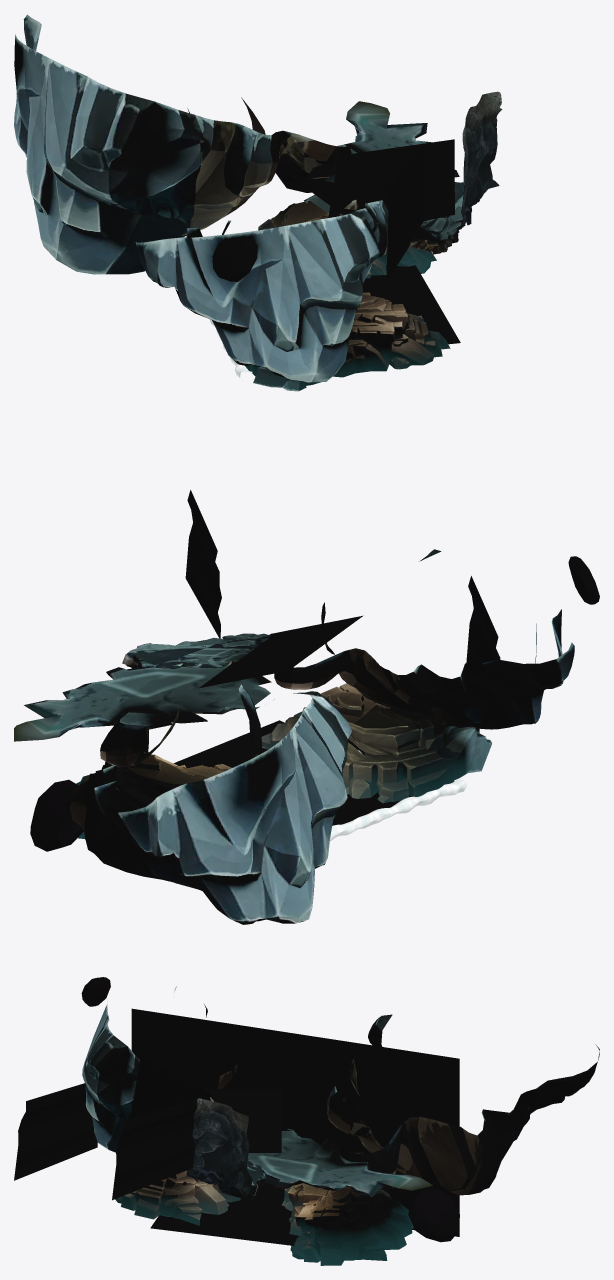
Rendered from scena_02.glb.
3 renders of one model, top to bottom at view 1: azimuth 30°, elevation 25°; view 2: azimuth 150°, elevation 25°; view 3: azimuth 270°, elevation 25°, orthographic. The views are drawn at different scales.
Parts seen in each view (by area): view 1: grotta_roccia_alta_dx, grotta_roccia_alta_sx, grotta_roccia_bassa_sx, piano_nero.001, grotta_roccia_quinta_top_dx, roccia buco camera, piano_nero.002, acqua_fiume, grotta_roccia_bassa_dx, grotta_roccia_quinta_top, piano_nero; view 2: grotta_roccia_alta_dx, grotta_roccia_alta_sx, grotta_roccia_bassa_sx, grotta_roccia_quinta_top_dx, piano_nero, grotta_roccia_quinta_top, grotta_roccia_bassa_dx, piano_nero.003, acqua_fiume, sbuffo_acqua_bianco, piano_nero.004; view 3: acqua_cascata, grotta_roccia_alta_dx, grotta_roccia_bassa_dx, grotta_roccia_alta_sx, piano_nero.003, grotta_roccia_quinta_top_dx, piano_nero.004, acqua_fiume, roccia buco camera, grotta_roccia_bassa_sx, piano_nero, piano_nero.002 (+1 smaller).
Boxes of the visible parts, bbox=[...] form: grotta_roccia_alta_dx: bbox=[14, 14, 351, 274]; grotta_roccia_alta_sx: bbox=[135, 199, 388, 382]; grotta_roccia_bassa_sx: bbox=[245, 292, 450, 391]; piano_nero.001: bbox=[328, 139, 454, 220]; grotta_roccia_quinta_top_dx: bbox=[304, 101, 459, 217]; roccia buco camera: bbox=[461, 91, 502, 224]; piano_nero.002: bbox=[386, 144, 424, 281]; acqua_fiume: bbox=[363, 265, 460, 344]; grotta_roccia_bassa_dx: bbox=[258, 200, 436, 278]; grotta_roccia_quinta_top: bbox=[409, 182, 479, 254]; piano_nero: bbox=[286, 173, 448, 244]; grotta_roccia_alta_dx: bbox=[30, 684, 352, 924]; grotta_roccia_alta_sx: bbox=[274, 549, 599, 729]; grotta_roccia_bassa_sx: bbox=[261, 683, 491, 803]; grotta_roccia_quinta_top_dx: bbox=[14, 665, 274, 741]; piano_nero: bbox=[199, 615, 363, 688]; grotta_roccia_quinta_top: bbox=[122, 633, 271, 669]; grotta_roccia_bassa_dx: bbox=[76, 754, 231, 838]; piano_nero.003: bbox=[185, 490, 221, 638]; acqua_fiume: bbox=[174, 720, 410, 825]; sbuffo_acqua_bianco: bbox=[330, 778, 466, 841]; piano_nero.004: bbox=[466, 576, 500, 663]; acqua_cascata: bbox=[131, 1008, 459, 1236]; grotta_roccia_alta_dx: bbox=[327, 1014, 599, 1242]; grotta_roccia_bassa_dx: bbox=[282, 1183, 413, 1265]; grotta_roccia_alta_sx: bbox=[81, 977, 237, 1152]; piano_nero.003: bbox=[112, 1098, 198, 1200]; grotta_roccia_quinta_top_dx: bbox=[247, 1129, 432, 1197]; piano_nero.004: bbox=[14, 1083, 97, 1180]; acqua_fiume: bbox=[150, 1182, 392, 1245]; roccia buco camera: bbox=[192, 1098, 252, 1195]; grotta_roccia_bassa_sx: bbox=[115, 1170, 240, 1225]; piano_nero: bbox=[201, 1089, 281, 1152]; piano_nero.002: bbox=[130, 1058, 209, 1118].
Size of the model in its own units: 40.6 by 22.96 by 62.36.
Materials: 8 (7 with a texture image).
